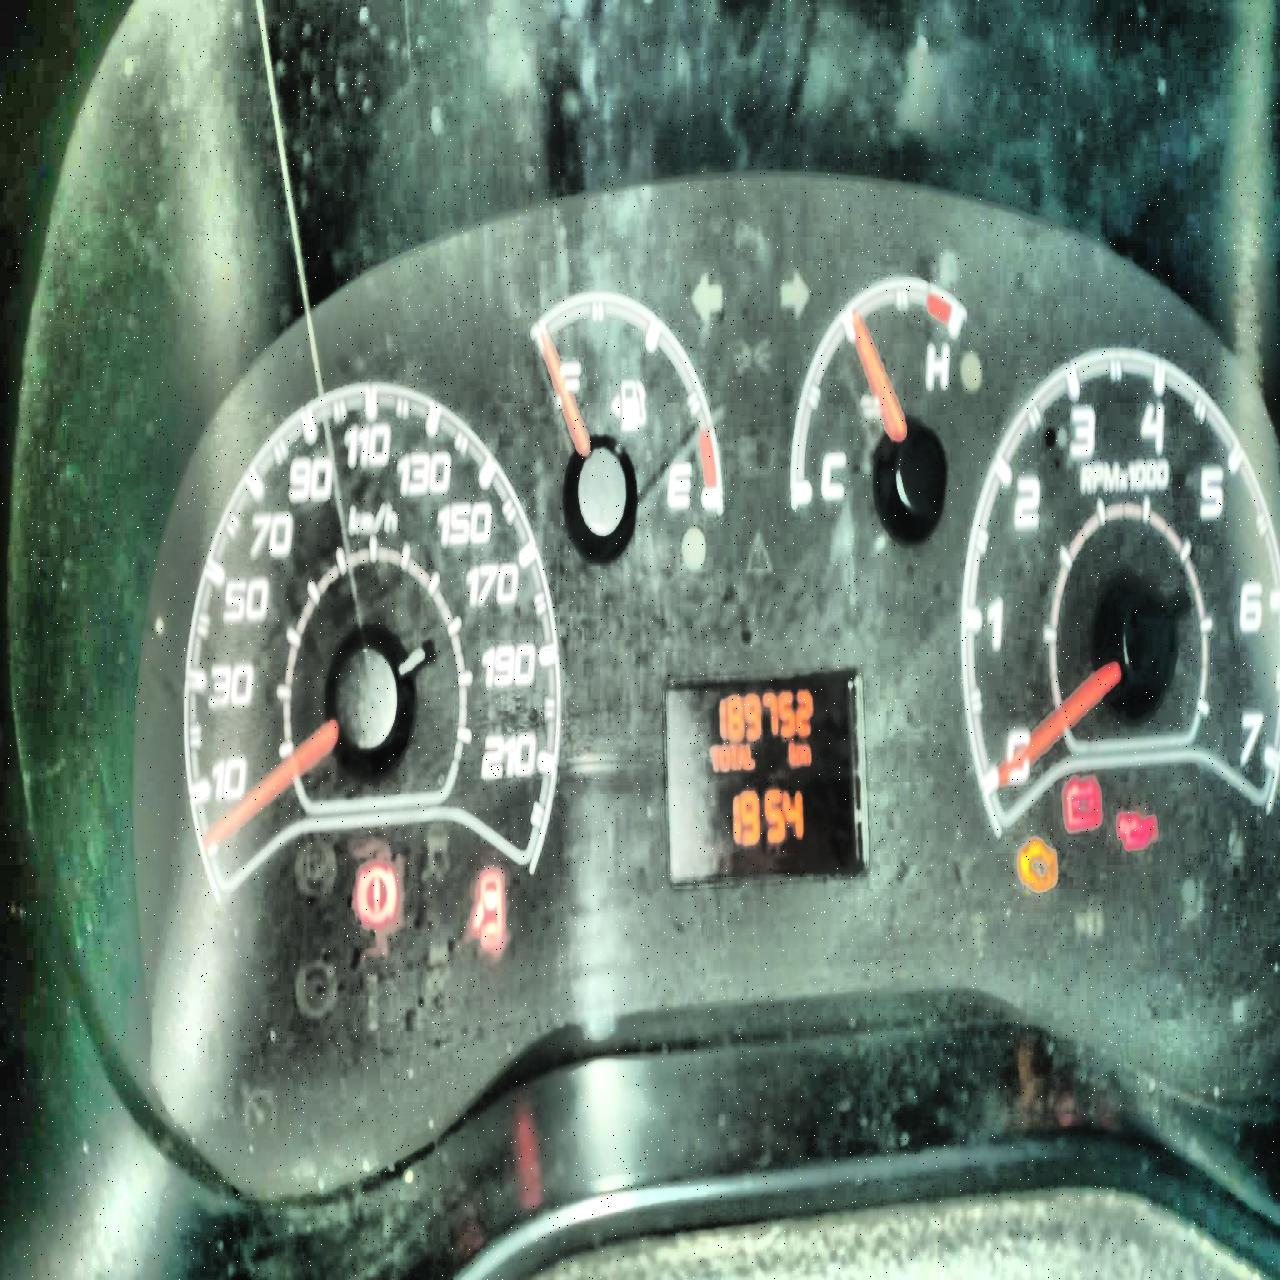1: (731, 792, 741, 843), (719, 697, 726, 738)
2: (795, 689, 812, 735)
4: (783, 790, 803, 840)
5: (763, 788, 784, 842), (777, 690, 795, 736)
7: (762, 692, 777, 735)
8: (726, 695, 743, 740)
9: (740, 790, 758, 843), (744, 694, 761, 740)
X: (719, 745, 730, 770), (708, 745, 719, 770), (789, 741, 799, 765), (798, 744, 811, 764), (744, 744, 754, 769), (736, 745, 745, 769), (729, 745, 738, 768)
odometer: (661, 667, 871, 887)
